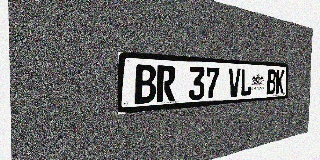3: (189, 66, 205, 100)
7: (205, 67, 219, 99)
B: (134, 64, 156, 104), (267, 69, 276, 95)
K: (276, 70, 285, 94)
L: (240, 68, 252, 97)
R: (156, 65, 176, 103)
V: (228, 68, 241, 98)
